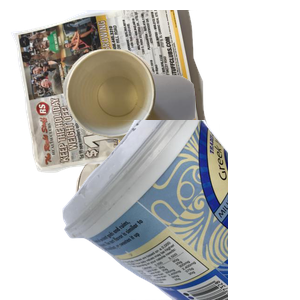glass: (73, 153, 284, 300)
paper: (10, 10, 210, 175)
plastic: (60, 120, 300, 300)
trash: (60, 47, 300, 227)
